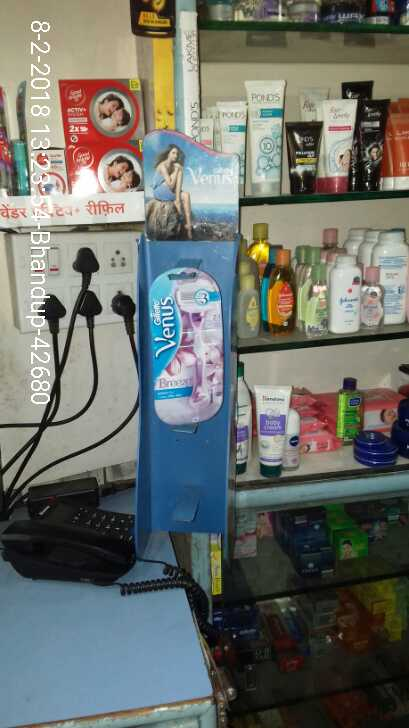beauty: (147, 268, 226, 423)
